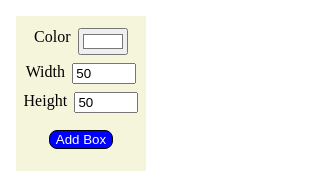
Scenario: should reset form after submit
Step 1. Type "#ff0000" into the colour field labelled "Color" → x=103, y=42, box [78, 28, 128, 55]
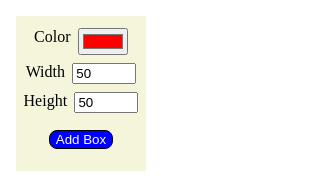
Step 2. Replace the text in the number field labelled "Width" with "100" → x=104, y=74, box [72, 63, 136, 84]
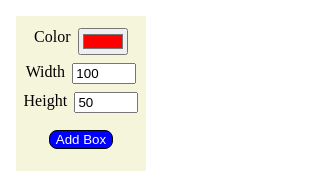
Step 3. Replace the text in the number field labelled "Height" with "200" → x=106, y=102, box [74, 92, 138, 113]
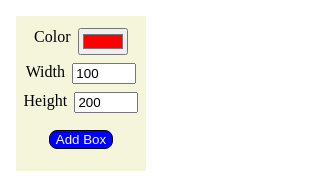
Step 4. Click the button "Add Box" → x=81, y=140, box [49, 130, 113, 149]
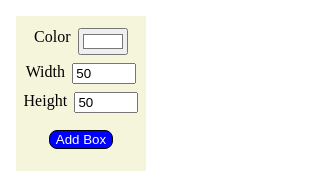
Check: the colour field labelled "Color" holds "#ffffff", box [78, 28, 128, 55]
Check: the number field labelled "Width" holds "50", box [72, 63, 136, 84]
Check: the number field labelled "Height" holds "50", box [74, 92, 138, 113]
